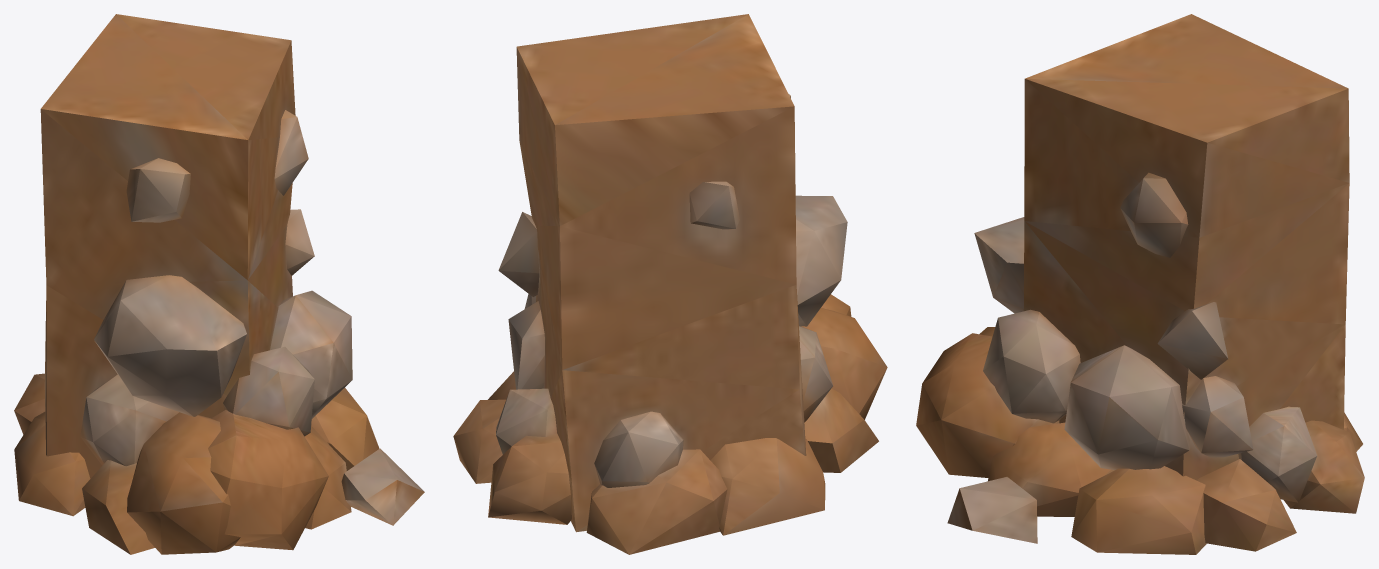
File: bloque_tierra_2_500.glb
3 views of the same model, side by side, from view 1: azimuth 30°, elevation 25°; view 2: azimuth 150°, elevation 25°; view 3: azimuth 270°, elevation 25° (orthographic). The views are drawn at different scales.
Parts seen in each view (by area): view 1: bloque_tierra_2_malla; view 2: bloque_tierra_2_malla; view 3: bloque_tierra_2_malla.
Boxes of the visible parts, box(x1,y1,x2,y2) form: bloque_tierra_2_malla: box(14, 14, 424, 554); bloque_tierra_2_malla: box(453, 14, 887, 554); bloque_tierra_2_malla: box(916, 14, 1364, 554).
Size of the model in its own units: 0.1963 by 0.2293 by 0.2294.
1 material, 1 textured.
